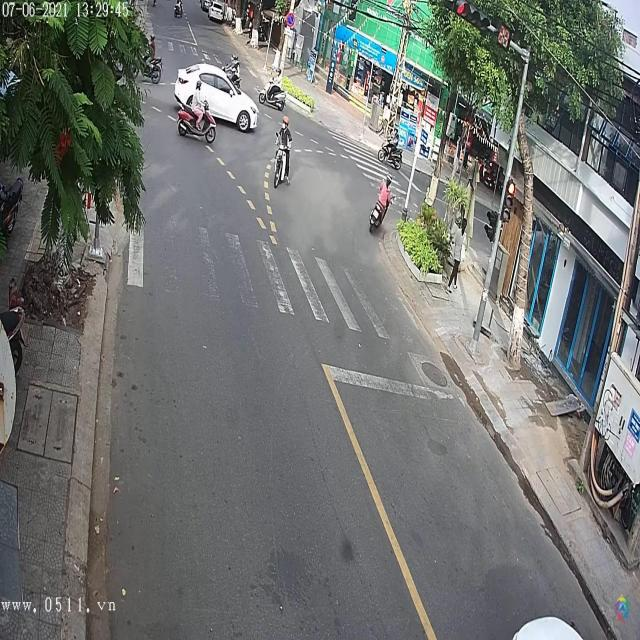car: (177, 70, 261, 132)
motorcycle: (178, 102, 216, 142), (368, 178, 392, 236), (376, 129, 407, 171), (257, 70, 288, 110), (274, 130, 293, 188), (173, 2, 183, 19)
